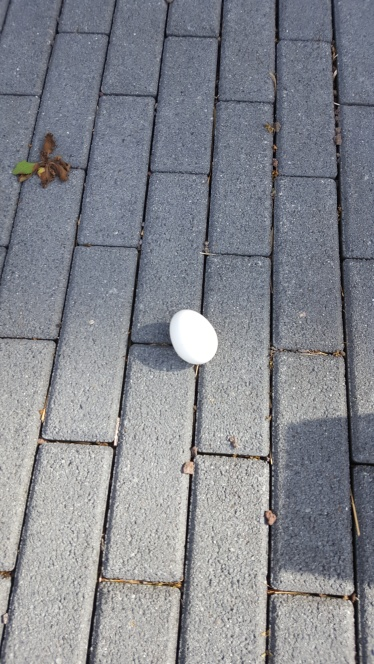egg: (170, 310, 219, 368)
